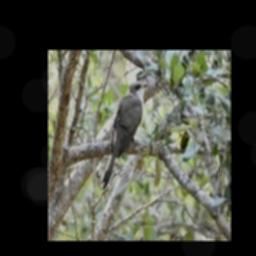Cuckoo: (102, 82, 147, 190)
